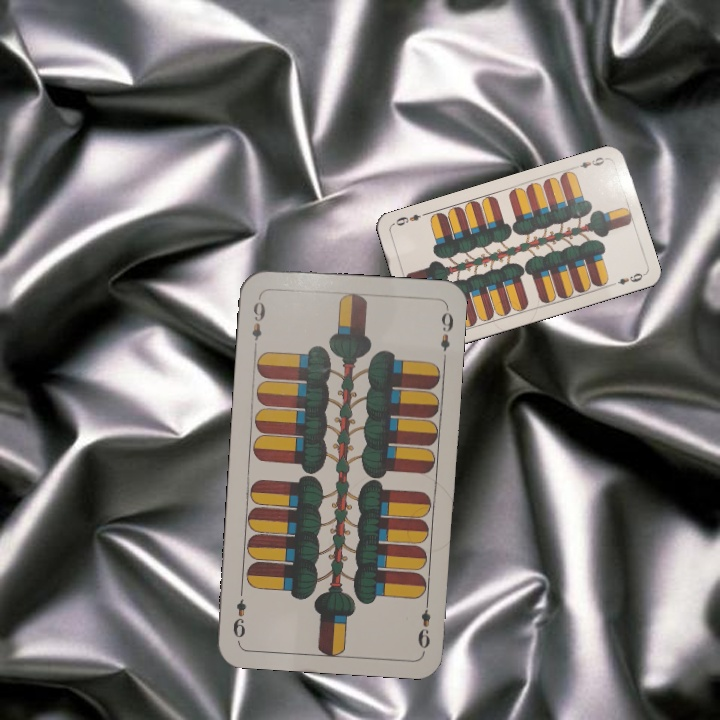E9: (414, 594, 433, 651), (248, 293, 268, 343), (570, 153, 610, 171)
